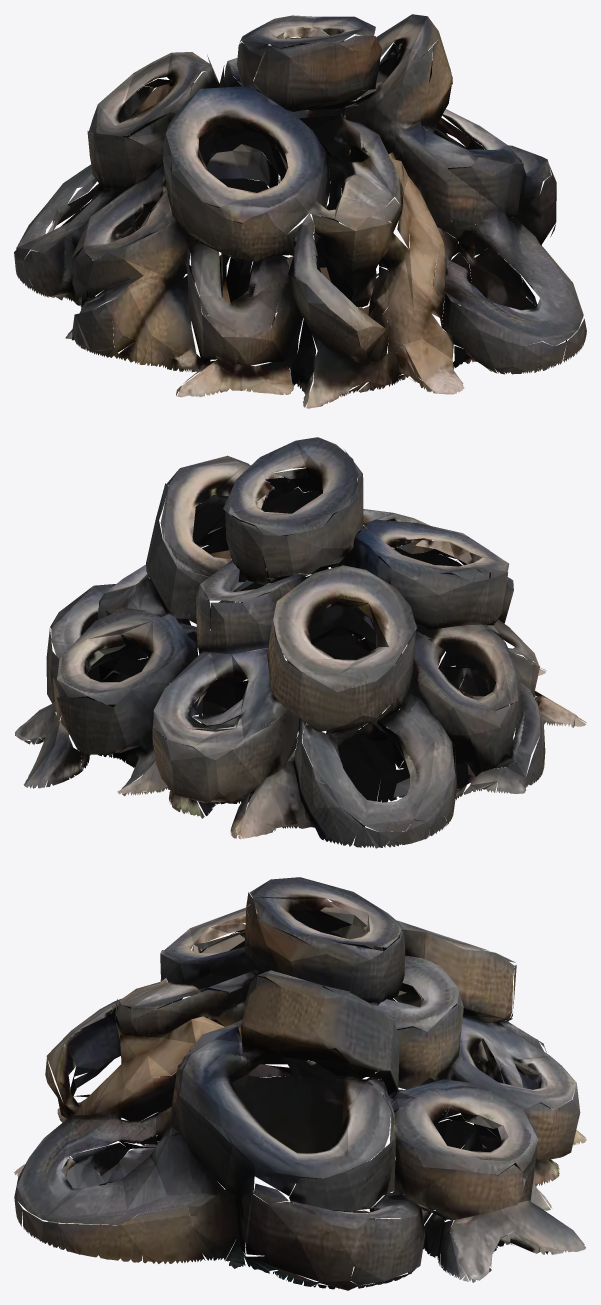
File: tyre-mountain.glb
3 views of the same model, one above another, from view 1: azimuth 30°, elevation 25°; view 2: azimuth 150°, elevation 25°; view 3: azimuth 270°, elevation 25° (orthographic). The views are drawn at different scales.
Parts seen in each view (by area): view 1: tmpqtob5gib.ply; view 2: tmpqtob5gib.ply; view 3: tmpqtob5gib.ply.
Boxes of the visible parts, x1,y1,x2,y2 form: tmpqtob5gib.ply: [14, 14, 586, 408]; tmpqtob5gib.ply: [15, 437, 586, 848]; tmpqtob5gib.ply: [14, 877, 586, 1290].
Size of the model in its own units: 4 by 2.2 by 4.
Materials: 1 (1 with a texture image).
